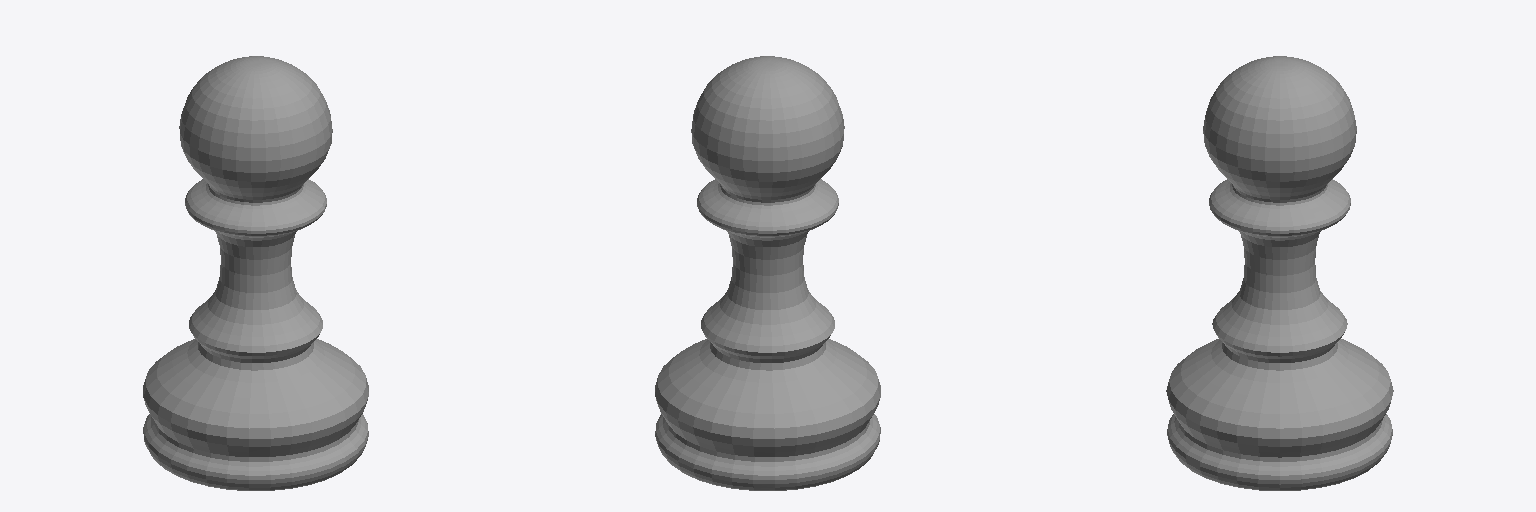
Rendered from Pawn.obj.
3 views of the same model, side by side, from view 1: azimuth 30°, elevation 25°; view 2: azimuth 150°, elevation 25°; view 3: azimuth 270°, elevation 25° (orthographic).
Parts seen in each view (by area): view 1: Pawn; view 2: Pawn; view 3: Pawn.
Boxes of the visible parts, <box> form: Pawn: <box>143,56,368,490</box>; Pawn: <box>655,56,880,490</box>; Pawn: <box>1166,56,1393,490</box>.
Bounding box in the file's own units: 1.58 × 2.96 × 1.58.